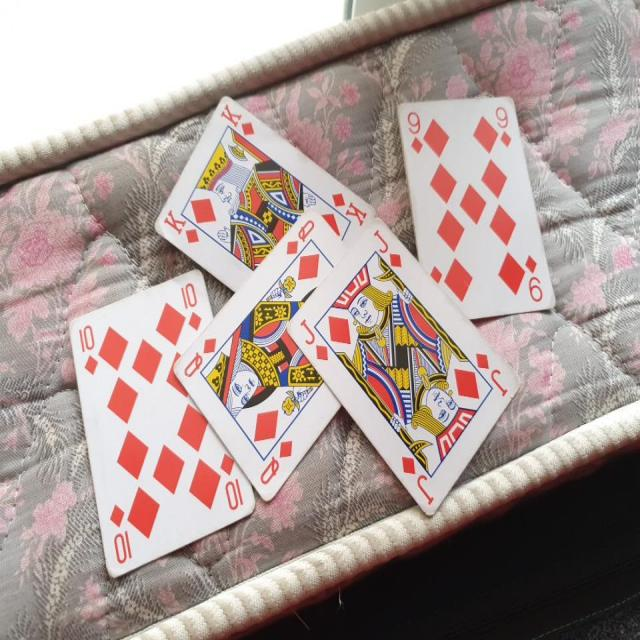10 Diamonds: (66, 263, 255, 576)
9 Diamonds: (396, 93, 558, 314)
J Diamonds: (282, 216, 523, 517)
K Diamonds: (153, 94, 376, 294)
Q Diamonds: (172, 210, 350, 504)
